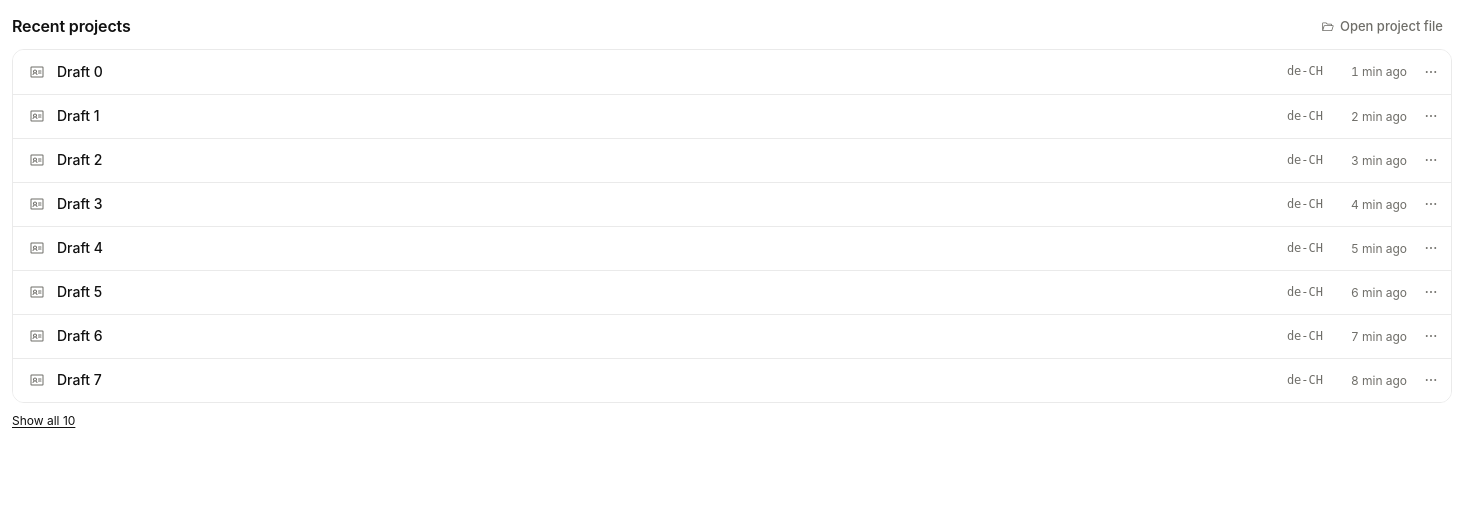
Scenario: RecentProjects › shows the 8 most recent drafts until "Show all" is used
Click the button "Show all 10".
click(44, 420)  # box [12, 411, 75, 430]
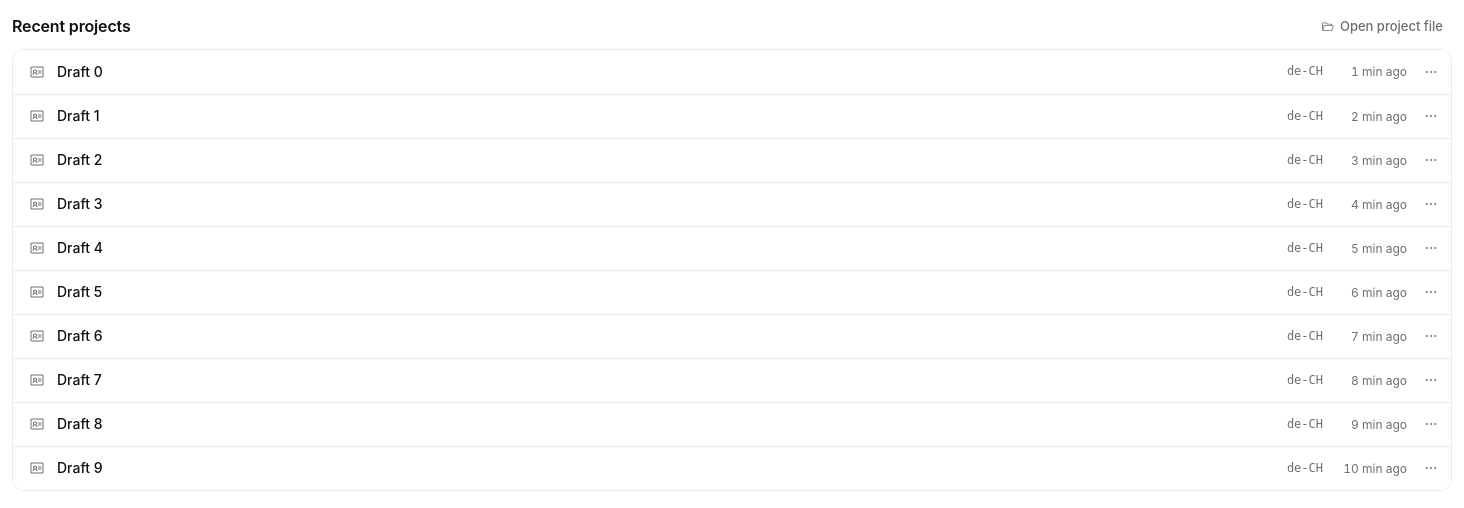
Check: the button "Show all" is gone
